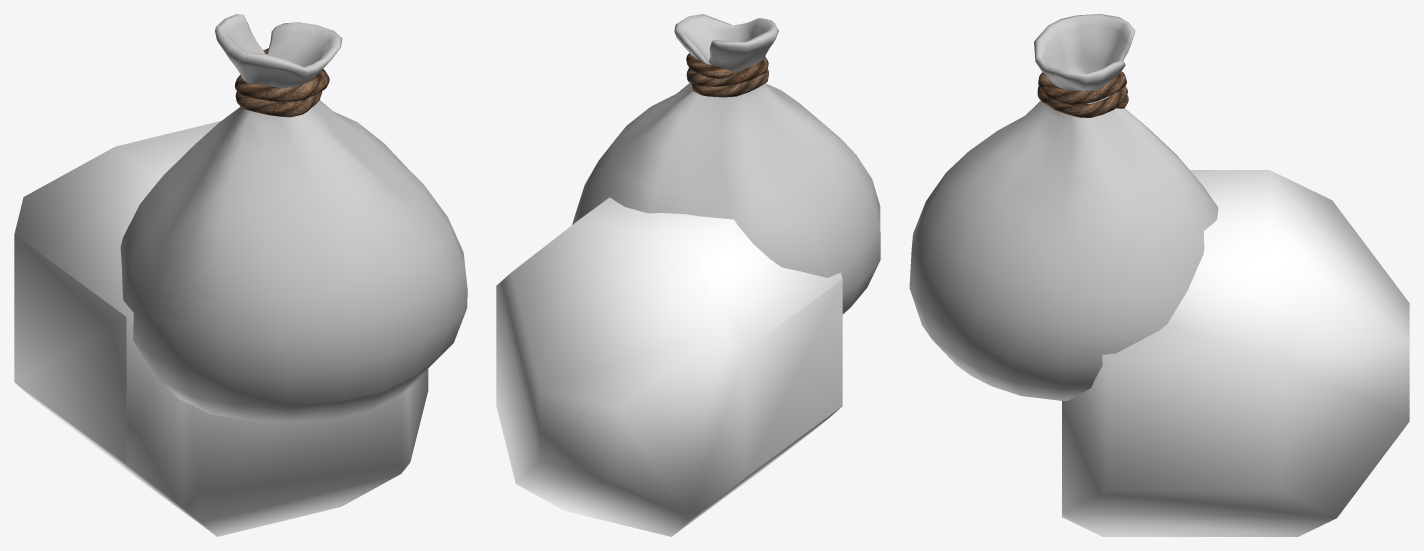
The model's file is SM_Bag.fbx.
3 renders of one model, left to right at view 1: azimuth 30°, elevation 25°; view 2: azimuth 150°, elevation 25°; view 3: azimuth 270°, elevation 25°, orthographic. The views are drawn at different scales.
Parts seen in each view (by area): view 1: SM_Bag, SM_Bag_ConvexHulls; view 2: SM_Bag_ConvexHulls, SM_Bag; view 3: SM_Bag_ConvexHulls, SM_Bag.
Part boxes in pixels (x1,y1,x2,y2): SM_Bag: [120, 14, 467, 422]; SM_Bag_ConvexHulls: [14, 120, 428, 536]; SM_Bag_ConvexHulls: [496, 197, 842, 536]; SM_Bag: [572, 14, 880, 314]; SM_Bag_ConvexHulls: [1062, 170, 1409, 536]; SM_Bag: [909, 14, 1218, 400].
Size of the model in its own units: 0.4389 by 0.6906 by 0.669.
